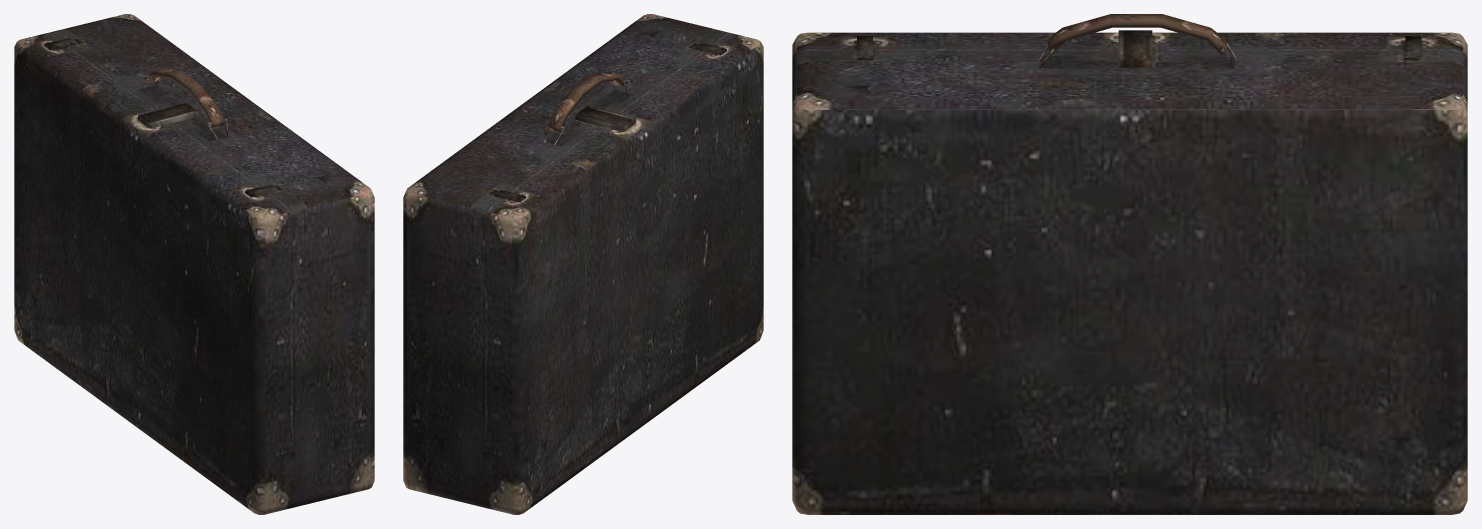
The model's file is suitcase_passenger_physics.glb.
3 renders of one model, left to right at view 1: azimuth 30°, elevation 25°; view 2: azimuth 150°, elevation 25°; view 3: azimuth 270°, elevation 25°, orthographic. The views are drawn at different scales.
Parts seen in each view (by area): view 1: 0_Furniture_DetailProps001a; view 2: 0_Furniture_DetailProps001a; view 3: 0_Furniture_DetailProps001a.
Part boxes in pixels (x1=…): 0_Furniture_DetailProps001a: x1=14, y1=14, x2=374, y2=514; 0_Furniture_DetailProps001a: x1=403, y1=14, x2=763, y2=514; 0_Furniture_DetailProps001a: x1=792, y1=14, x2=1467, y2=514.
Bounding box in the file's own units: 0.1814 × 0.4783 × 0.6388.
1 material, 1 textured.
